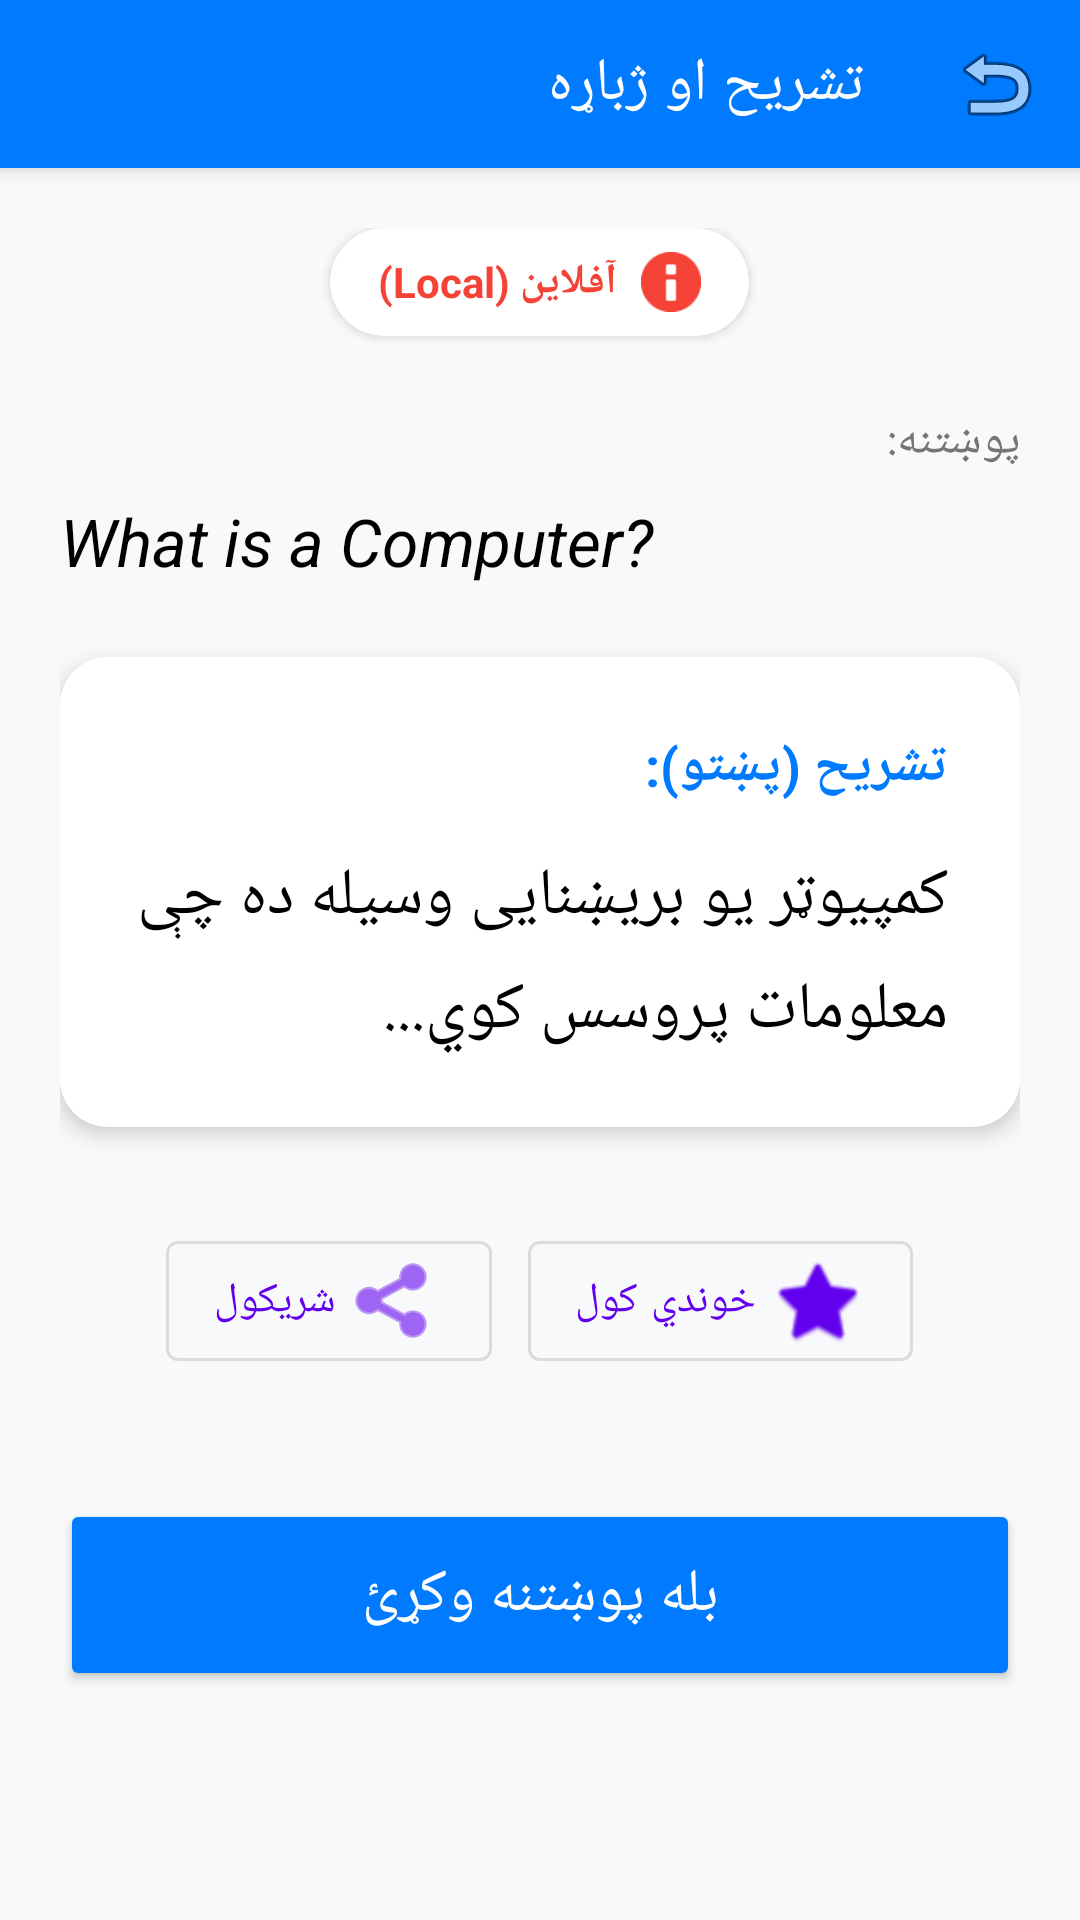

Named icons in this screenshot (1080px x 1920px) and their centers, [x,y]:
info: [671,282]
